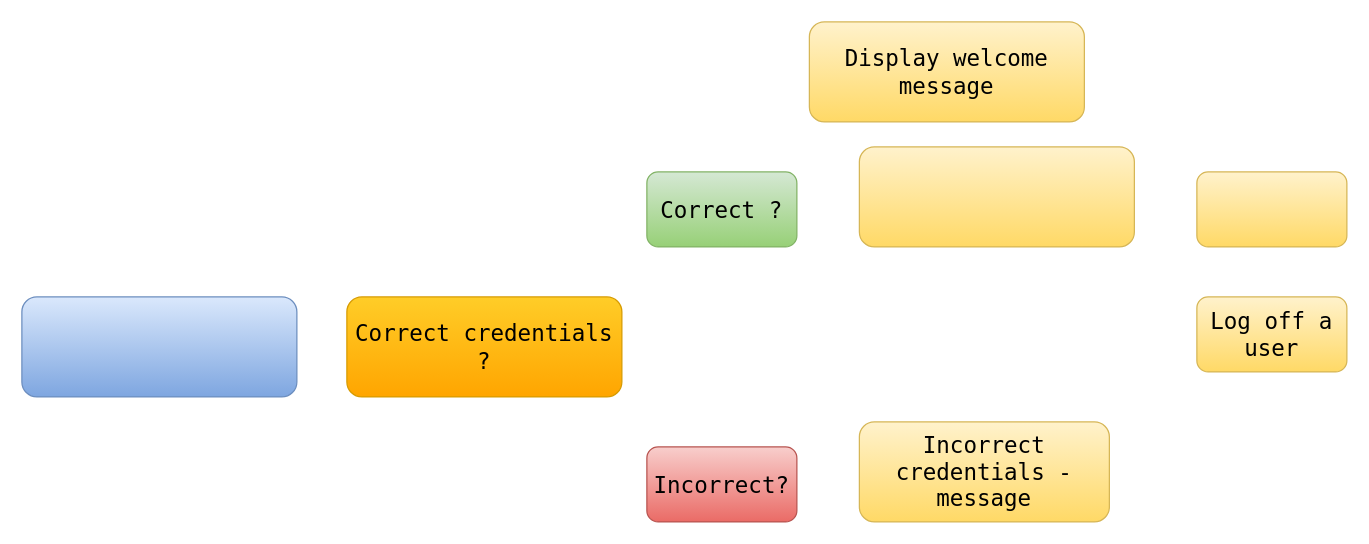
The diagram is 1369 pixels wide and 544 high, and some of its shapes have lost their labels. Here are the shapes that lost their labels. From the top down, the box of each, then its label:
(858, 146, 1134, 247): Turn on the time counter (10s)
(1196, 171, 1347, 247): After 10 sec. ?
(21, 296, 297, 397): User logs in
